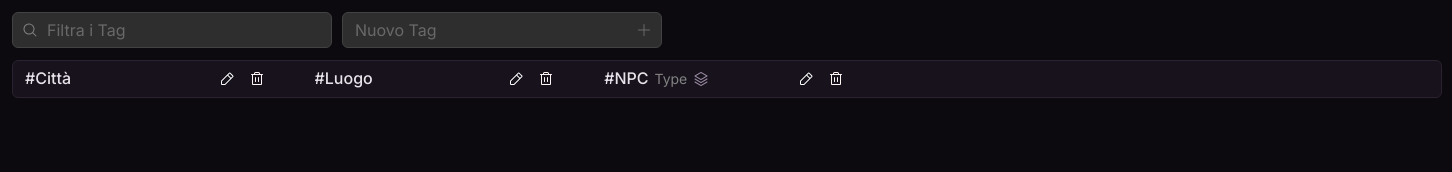
Test: AllTagsList › creating a Tag › shows a refused name under the field until it is edited
This screenshot has width=1452, height=172.
In the field labelled "Nuovo Tag": x=502, y=30 top-left (342, 12), bottom-right (662, 48), type "NPC"
Then press Enter
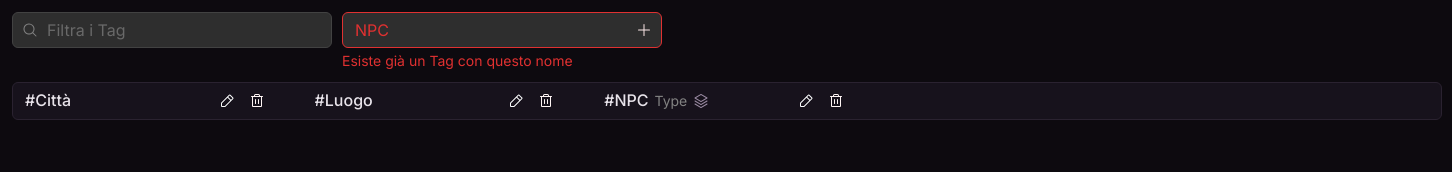
expect the text "Esiste già un Tag con questo nome" is shown: met, box top-left (342, 52), bottom-right (573, 69)
In the field named "Nuovo Tag": x=502, y=30 top-left (342, 12), bottom-right (662, 48), type "s"
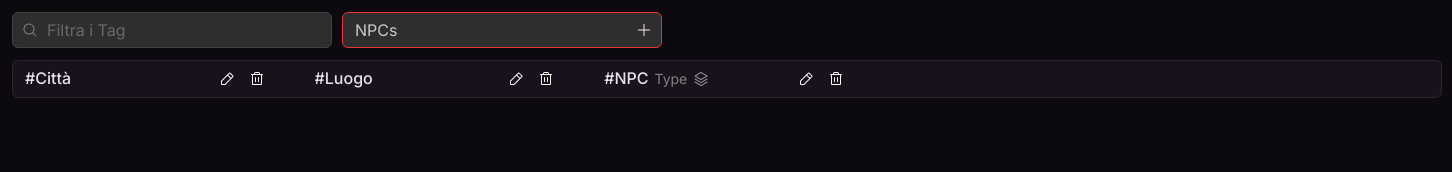
expect the text "Esiste già un Tag con questo nome" is gone: met
